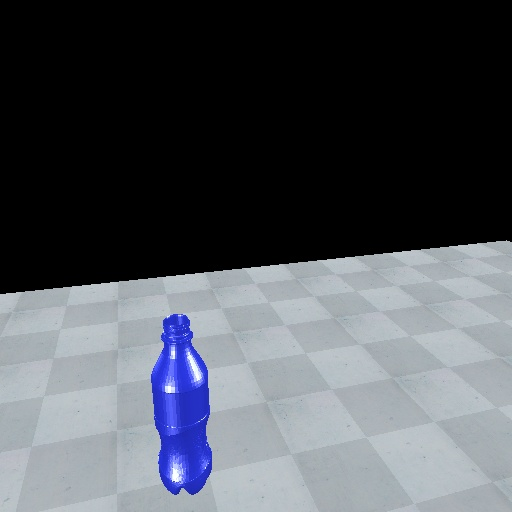bottle: (148, 311, 216, 498)
